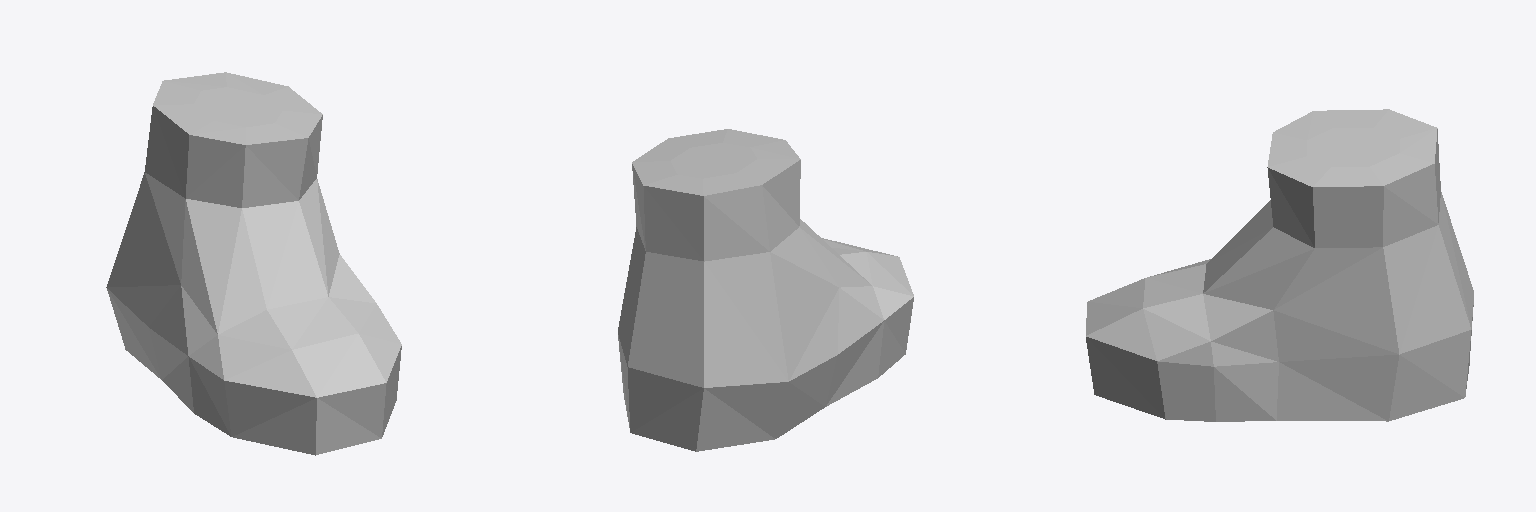
File: shoe right.obj
3 renders of one model, left to right at view 1: azimuth 30°, elevation 25°; view 2: azimuth 150°, elevation 25°; view 3: azimuth 270°, elevation 25°, orthographic.
Visible parts, largest first — view 1: model459; view 2: model459; view 3: model459.
Part boxes in pixels (x1,y1,x2,y2): model459: (106,72,401,455); model459: (618,129,913,451); model459: (1086,109,1473,421).
Bounding box in the file's own units: 1.9 × 2.43 × 3.49.